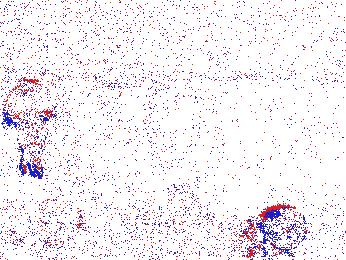flame jellyfish: (2, 82, 61, 179), (242, 206, 309, 251), (31, 195, 84, 248)
